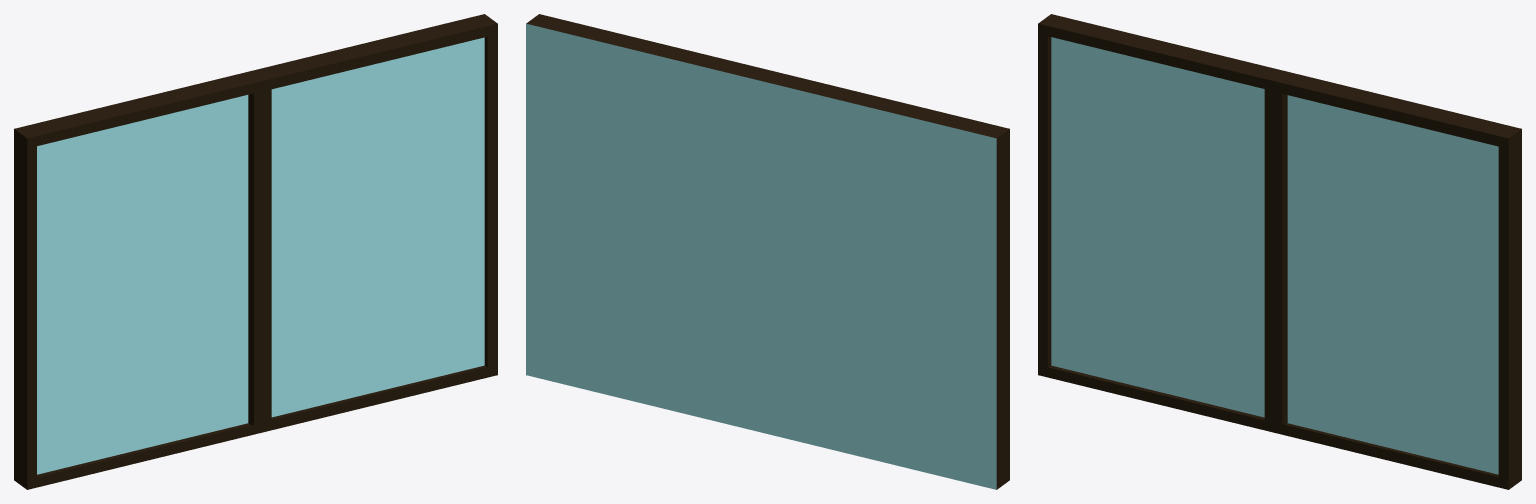
The model's file is exit_door.fbx.
3 views of the same model, side by side, from view 1: azimuth 30°, elevation 25°; view 2: azimuth 150°, elevation 25°; view 3: azimuth 330°, elevation 25° (orthographic).
Visible parts, largest first — view 1: Cube; view 2: Cube; view 3: Cube.
Part boxes in pixels (<box>): Cube: <box>14,14,497,489</box>; Cube: <box>526,14,1009,489</box>; Cube: <box>1038,14,1521,489</box>.
Size of the model in its own units: 422 by 301 by 20.43.
